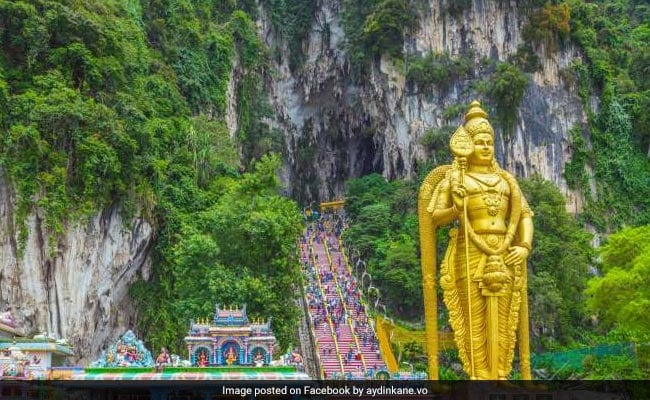Hindu Temple: (407, 94, 529, 381)
